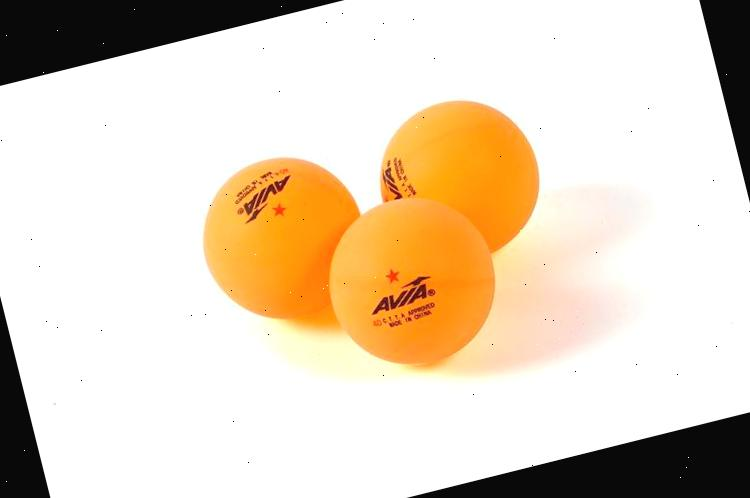ball: (306, 176, 515, 385), (178, 135, 386, 343), (356, 78, 559, 281)
